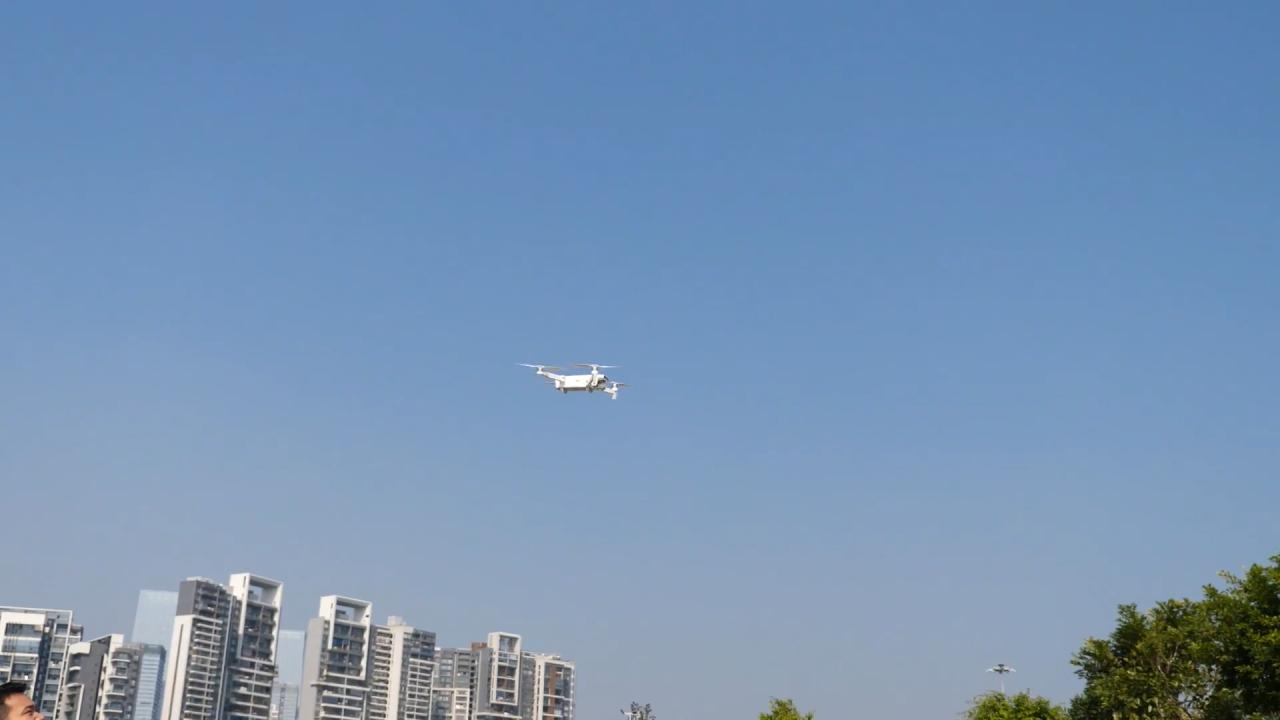Drone: (507, 351, 637, 408)
